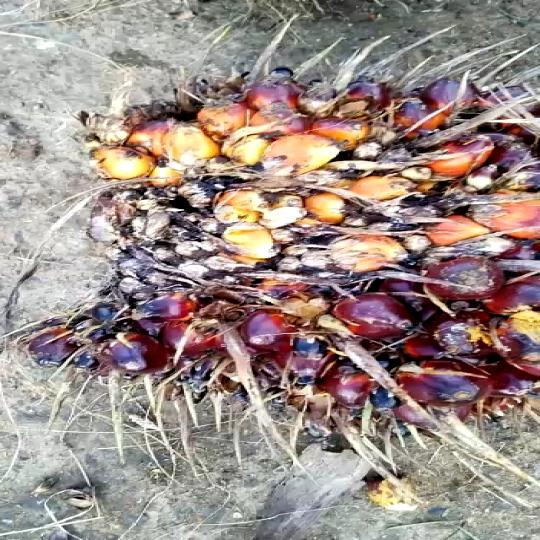terlalu masak: (15, 22, 540, 483)
